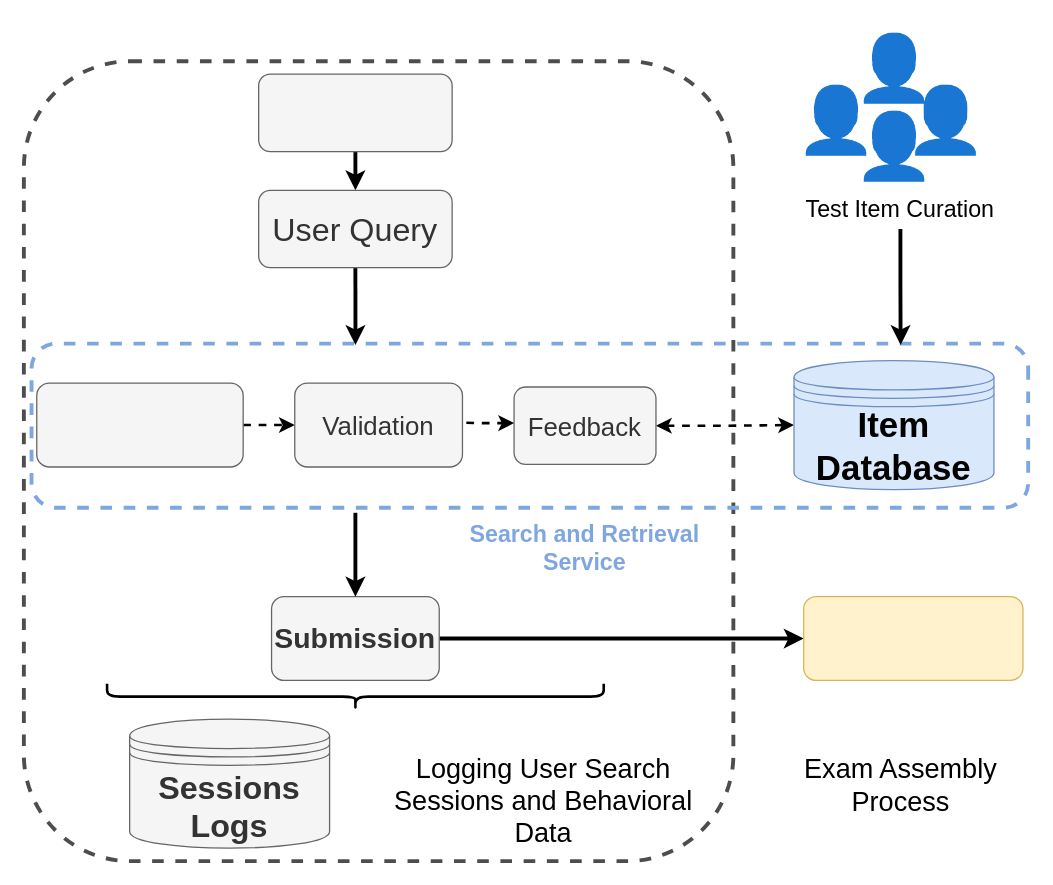
This 1053x885 diagram has some shape labels left out. The centre of each missing label's shape, as x and y in pixels:
"Computer-based Testing Environment" goes at (x=912, y=637).
"Test Item Filtering & Selection" goes at (x=139, y=424).
"User Login" goes at (x=354, y=112).
